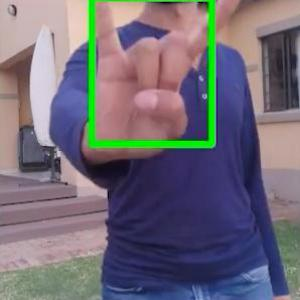takeoff-hand: (88, 0, 248, 162)
